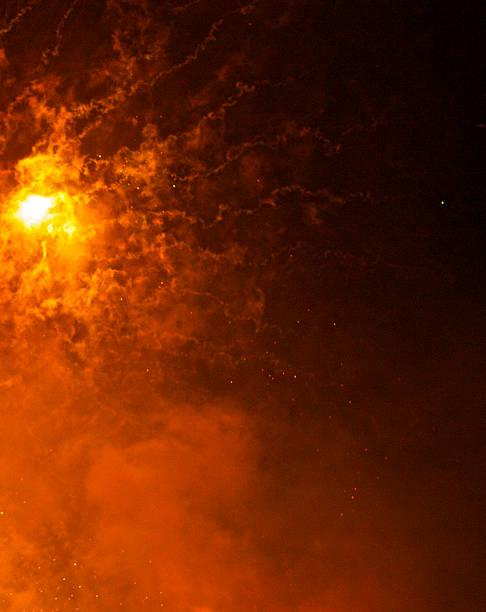Fire: (2, 105, 365, 482)
